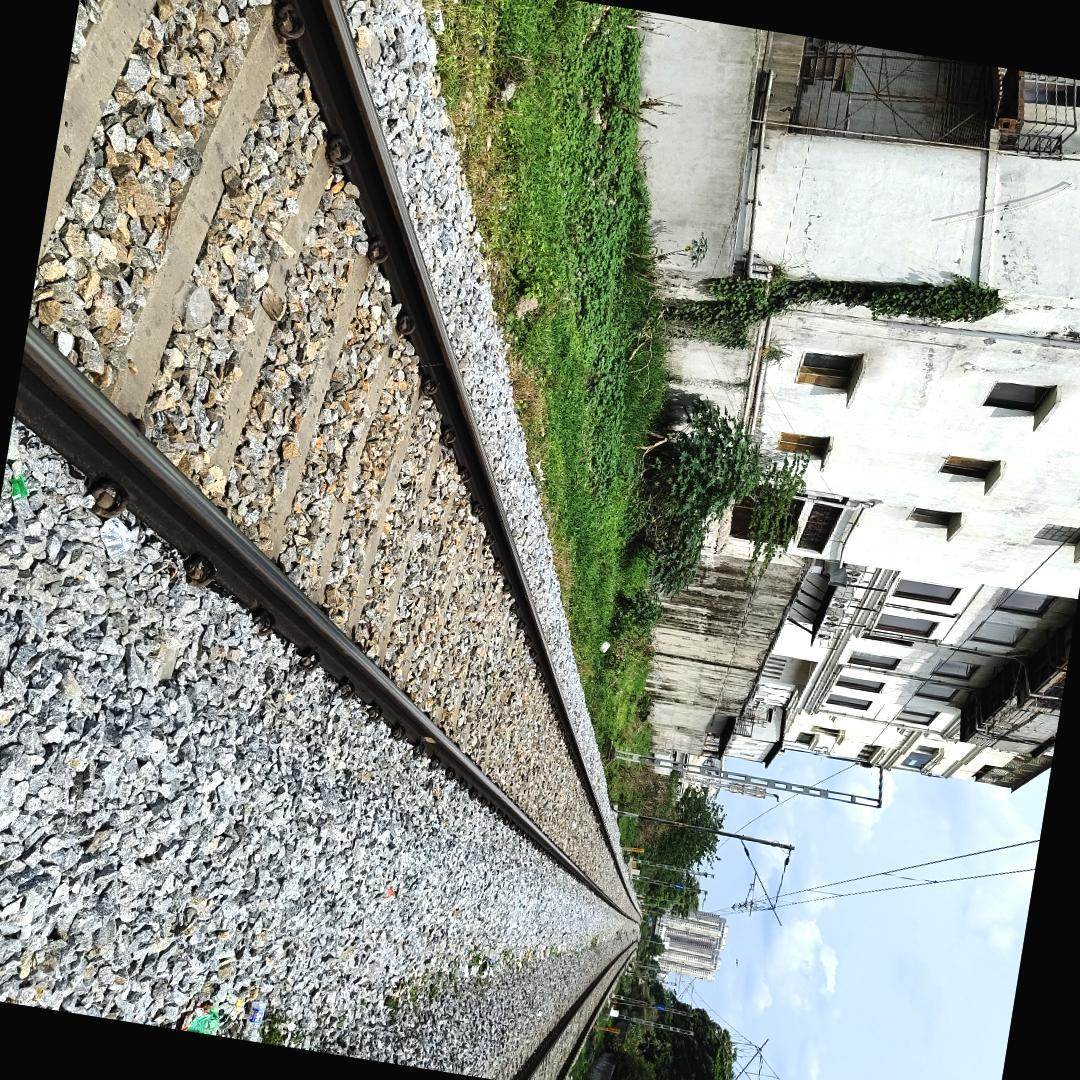track: (11, 0, 630, 930)
